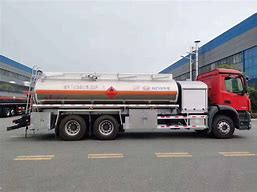oil truck: (20, 56, 252, 147)
